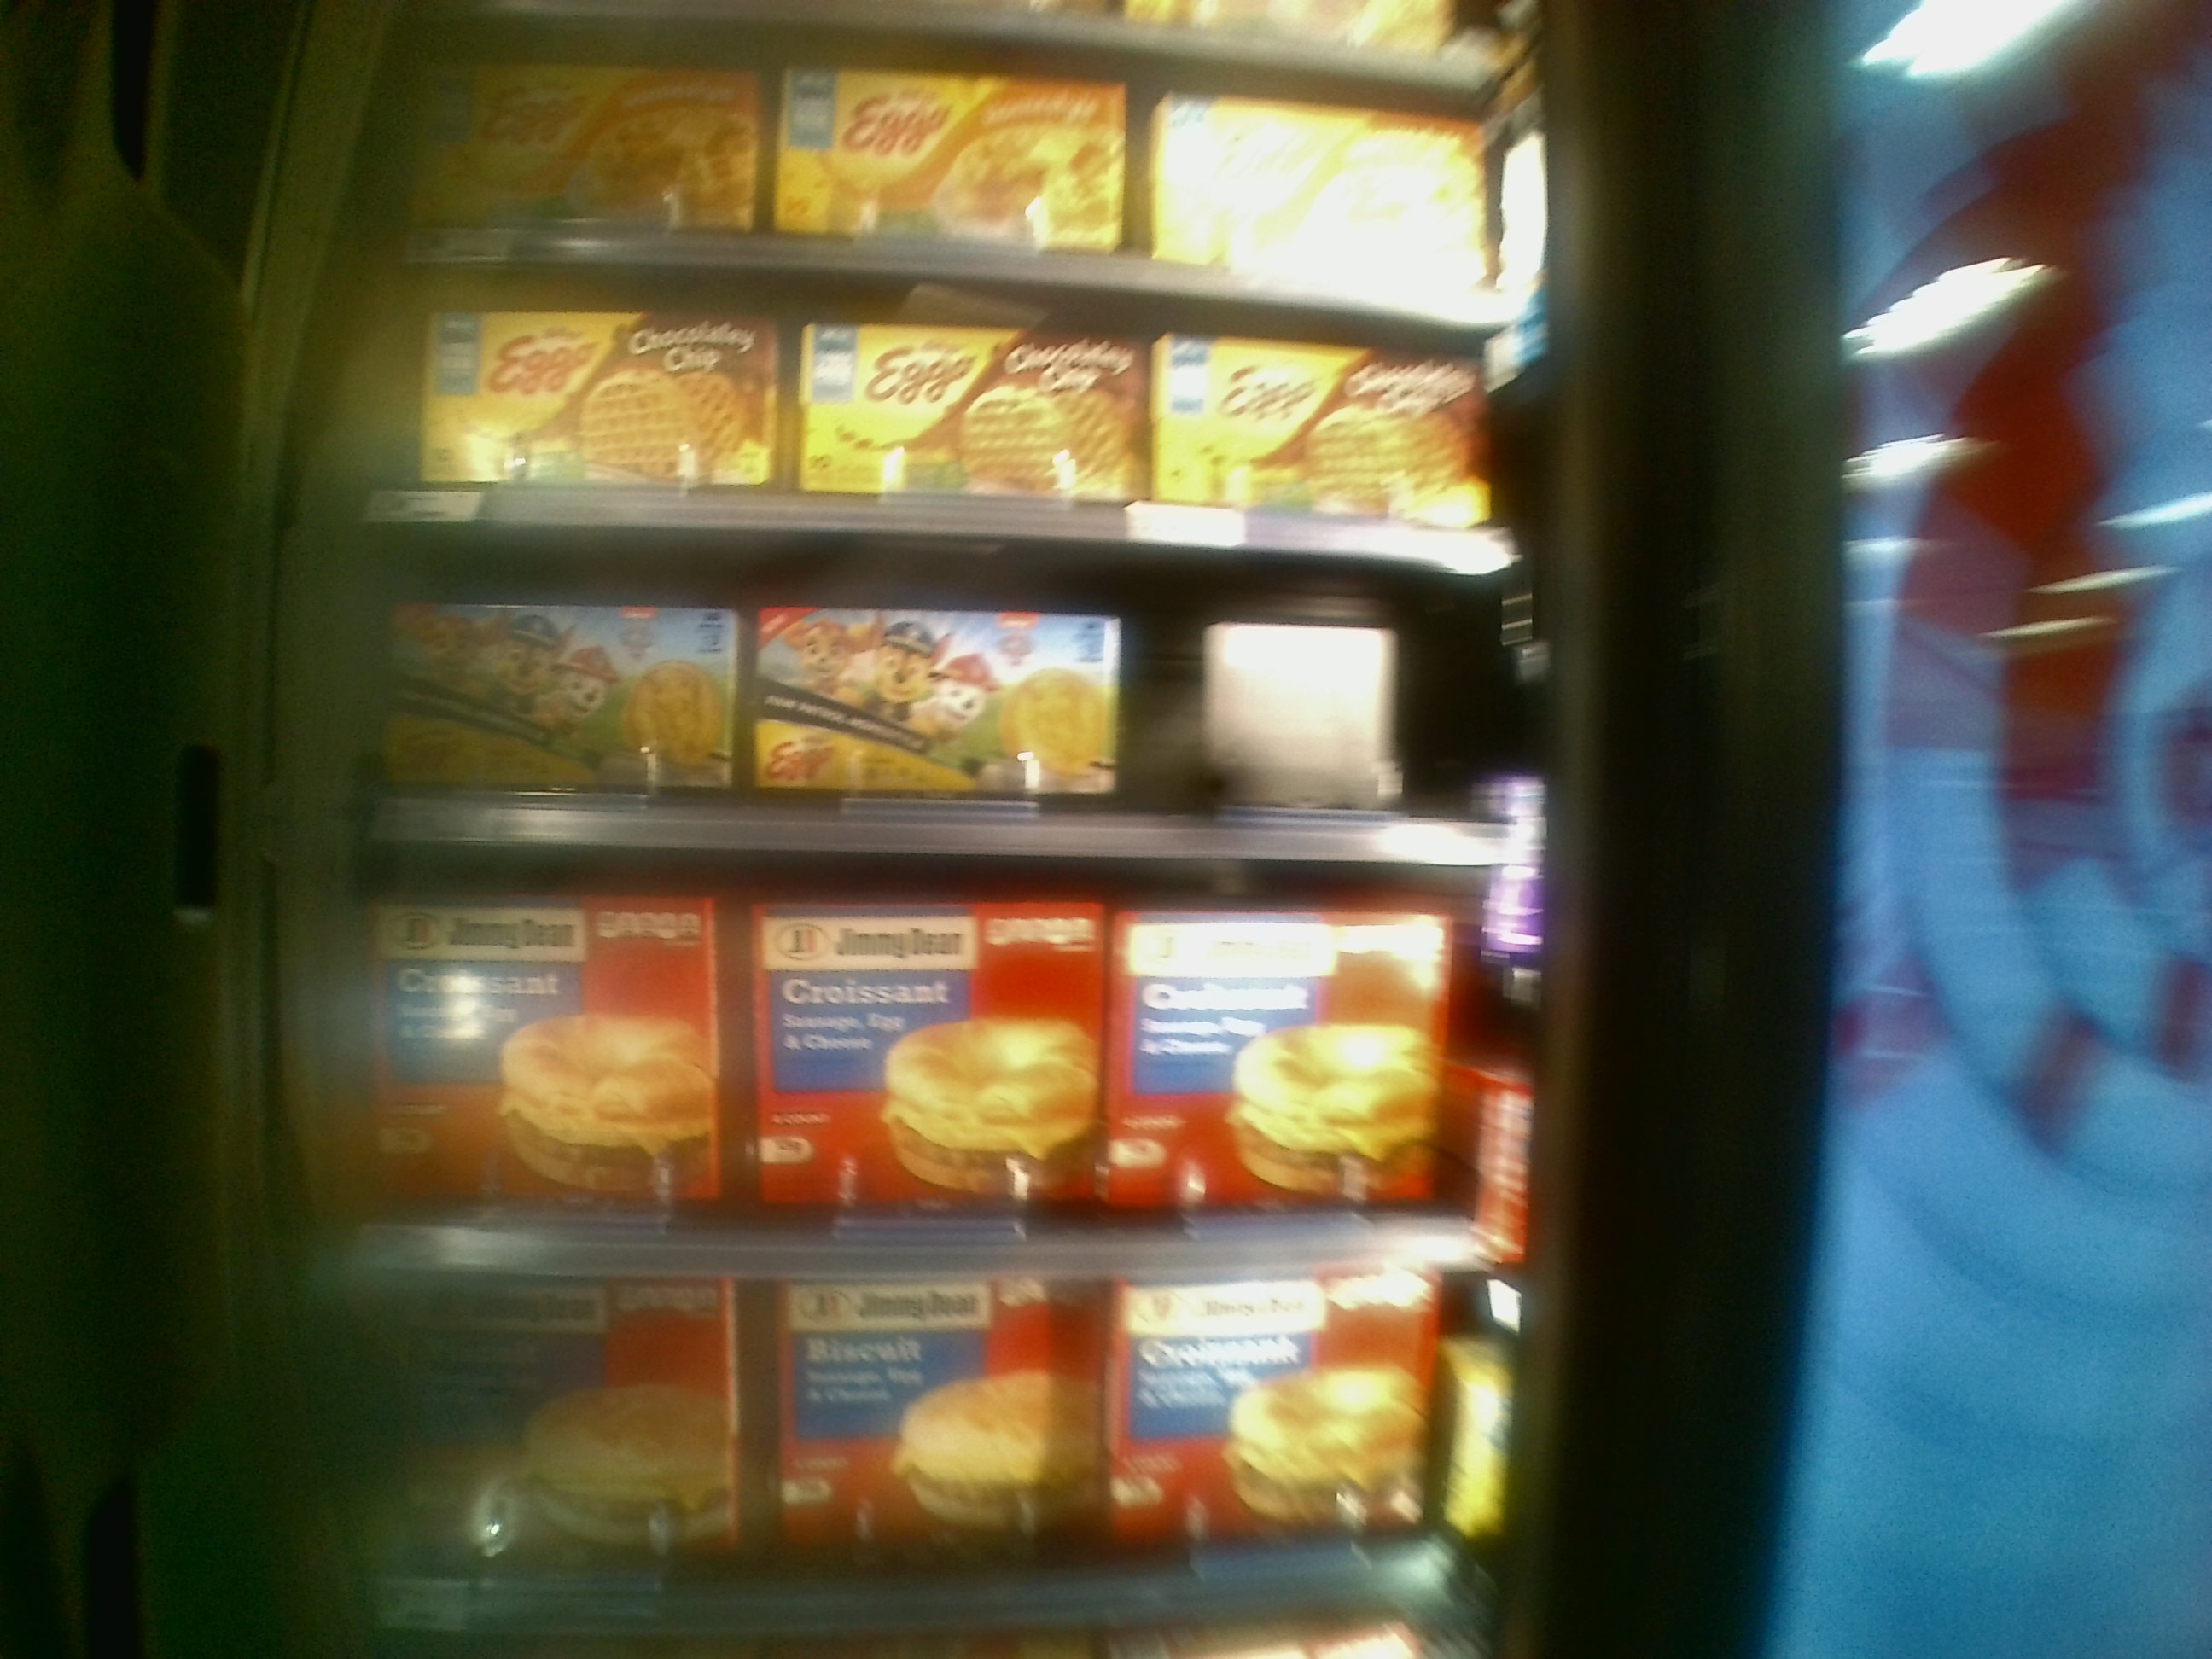shelf: (361, 852, 1521, 1281), (361, 532, 1521, 870), (355, 254, 1519, 542)
